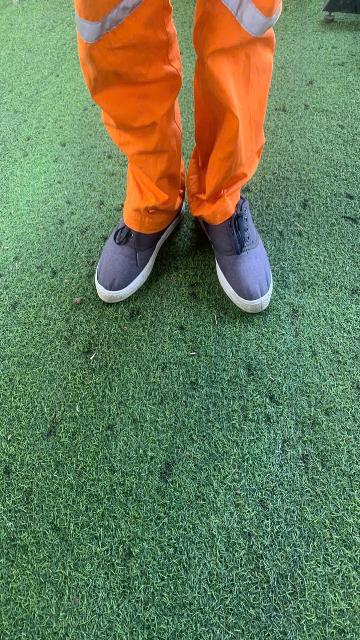shoes: (86, 186, 183, 305), (201, 196, 278, 327)
